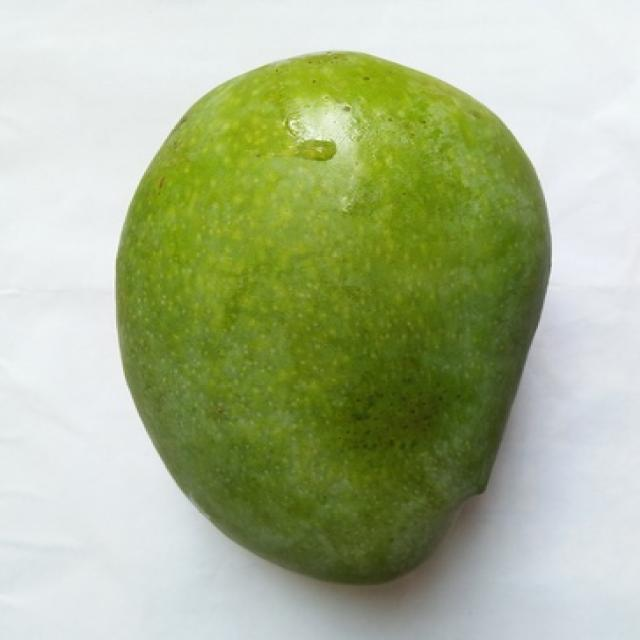Mango: (116, 52, 549, 582)
